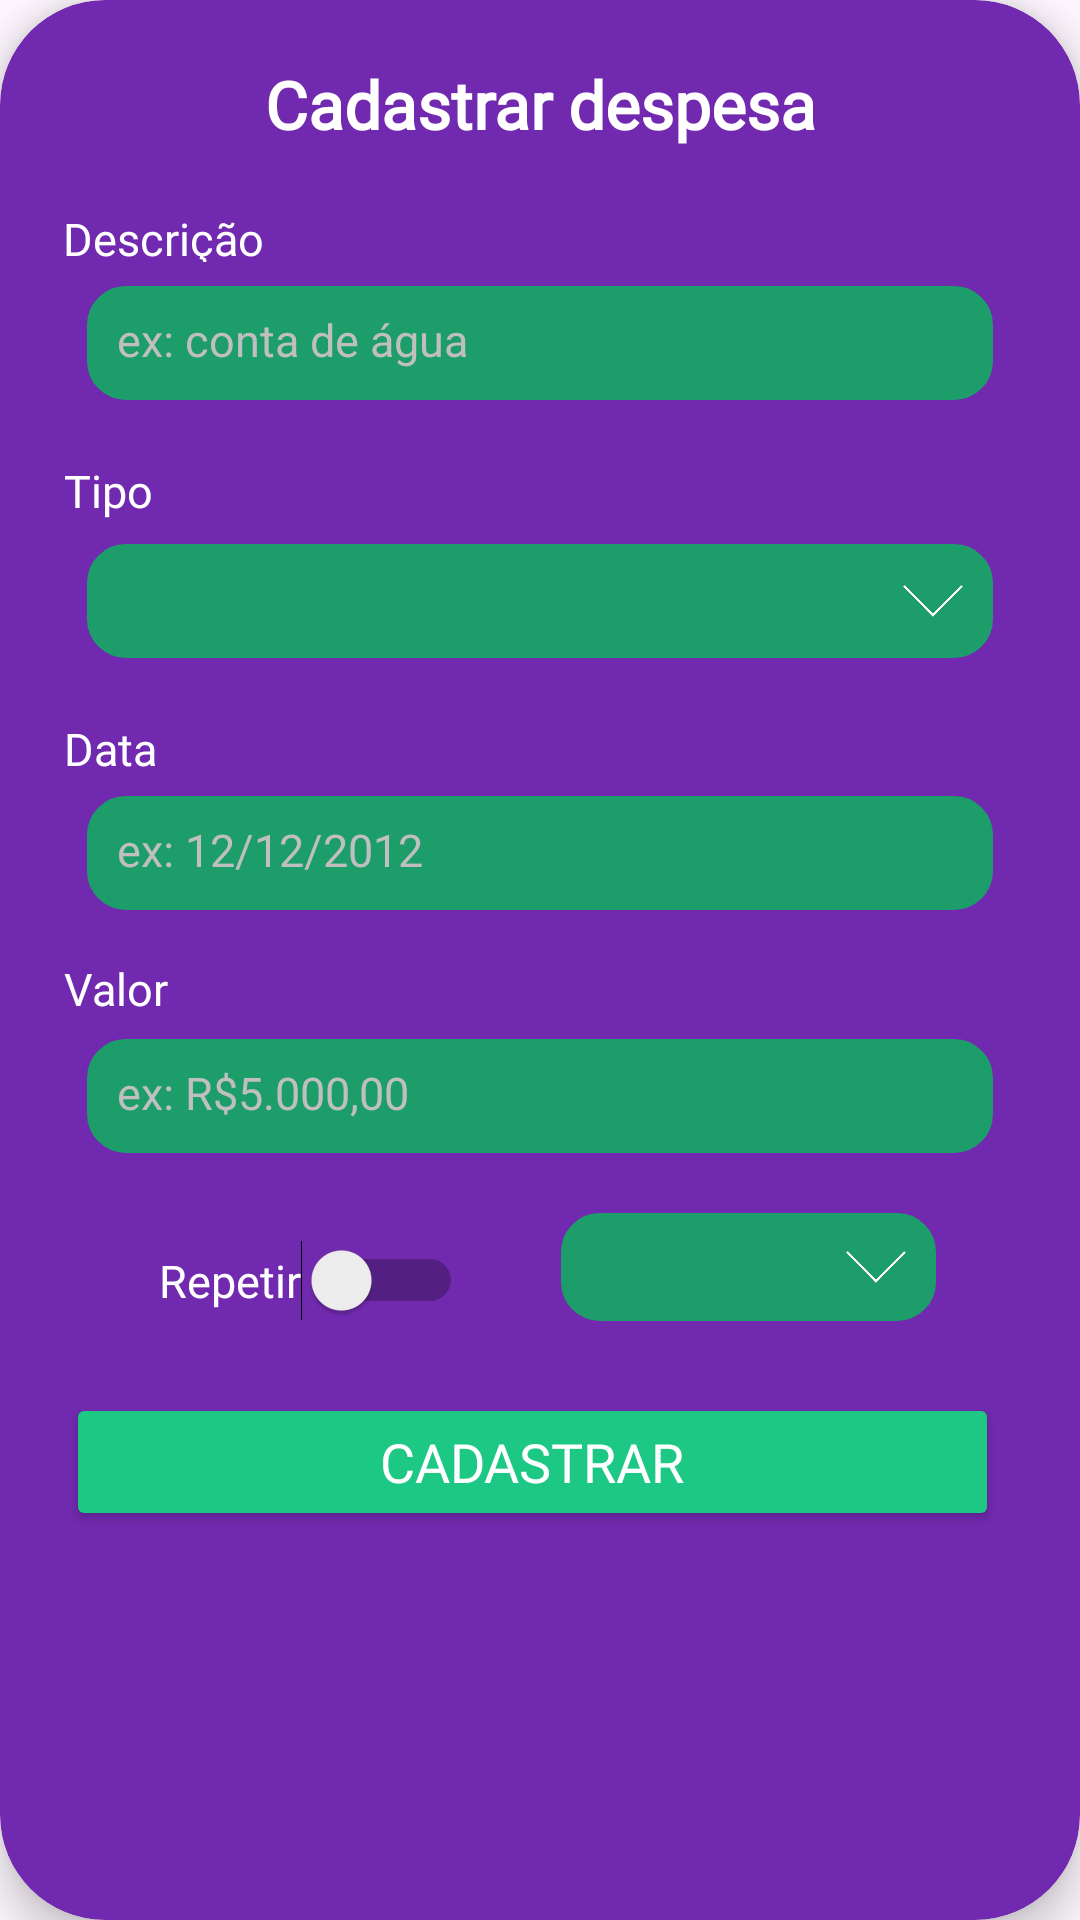

Icon click points for this 1080x1920 phone screenshot, format point (x, y):
seta spinner: point (933, 601), point (876, 1267)
